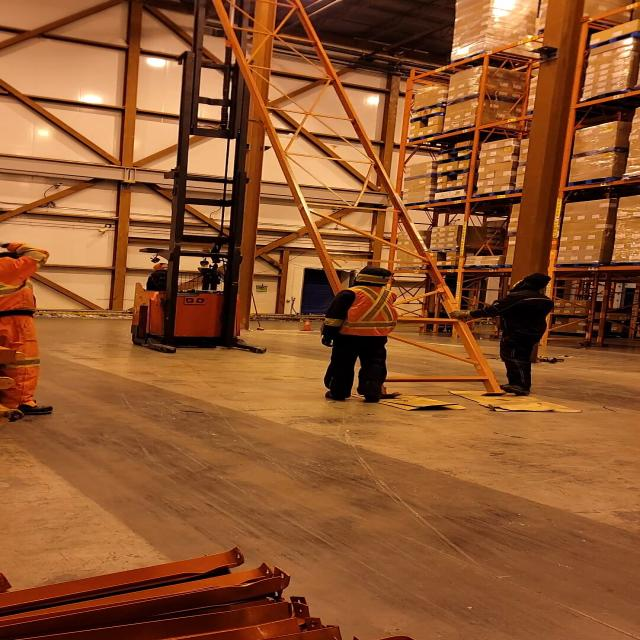forklift: (123, 169, 270, 356)
human: (448, 266, 560, 399), (309, 264, 409, 406), (0, 242, 59, 423), (135, 260, 197, 292)
objectofinterest: (212, 6, 520, 400), (440, 386, 590, 415), (342, 389, 468, 413)
